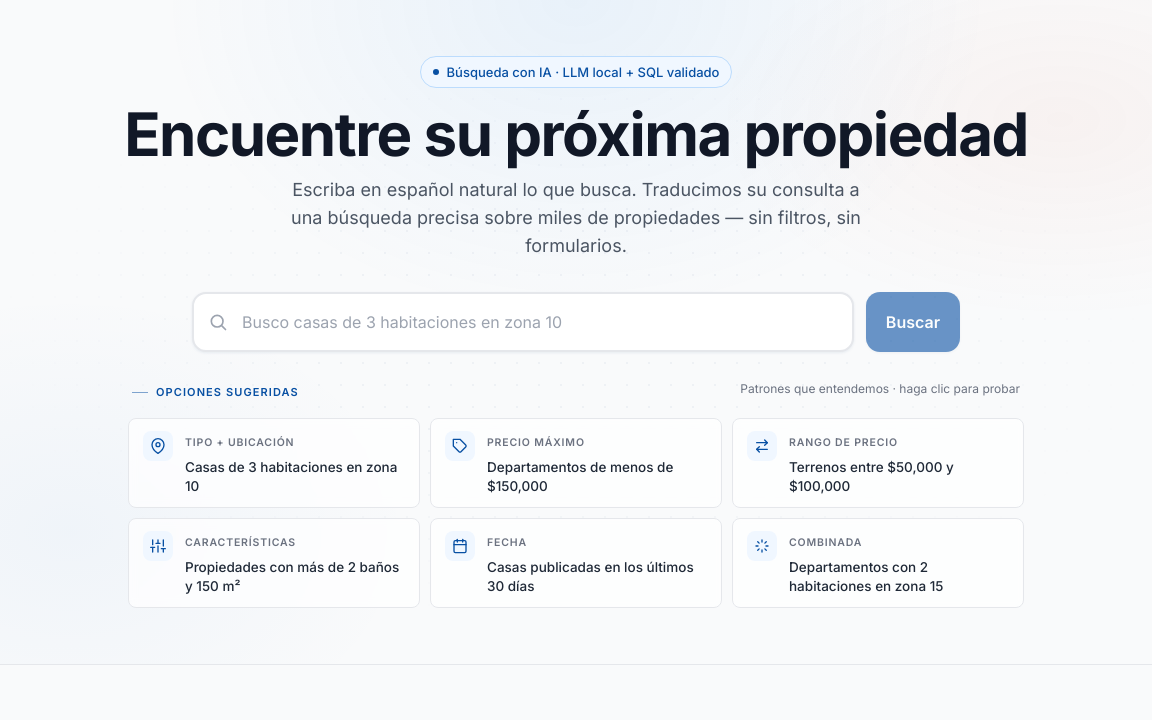
it: SearchView › renders EmptyState after search with zero results
Type "algo raro" into the search field with placeholder "Busco casas de 3 habitaciones en zona 10" at coordinates (523, 322), box [192, 292, 854, 352]
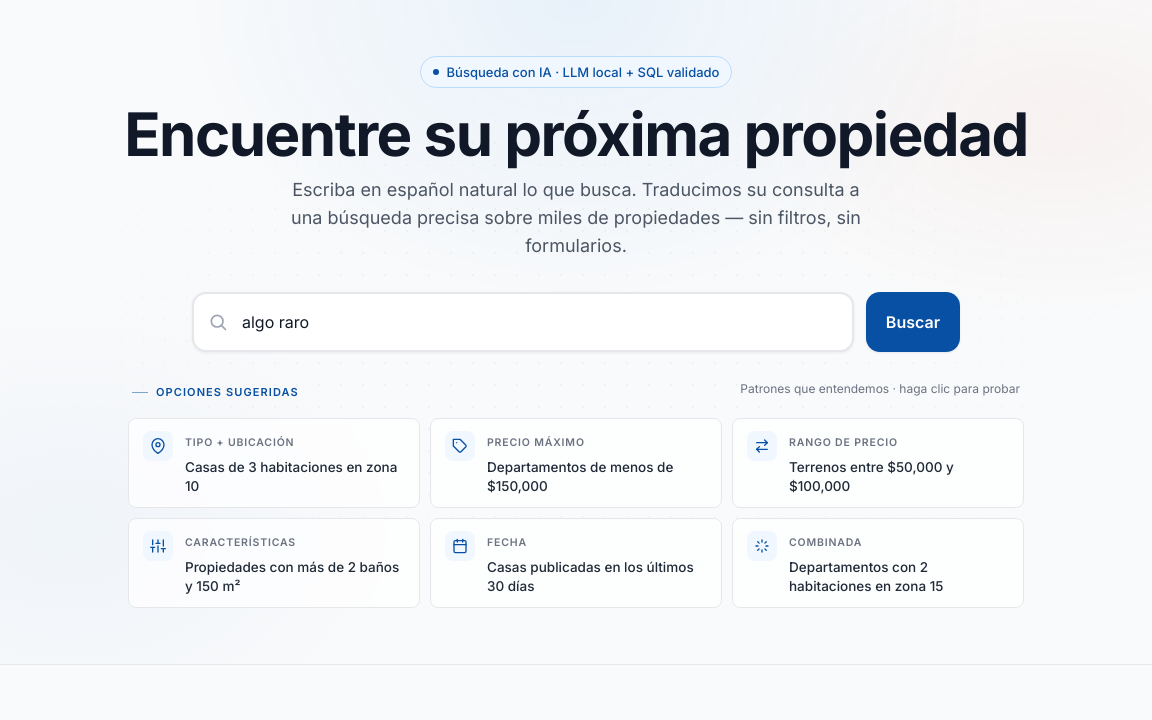
Submit the form, box [192, 292, 960, 352]
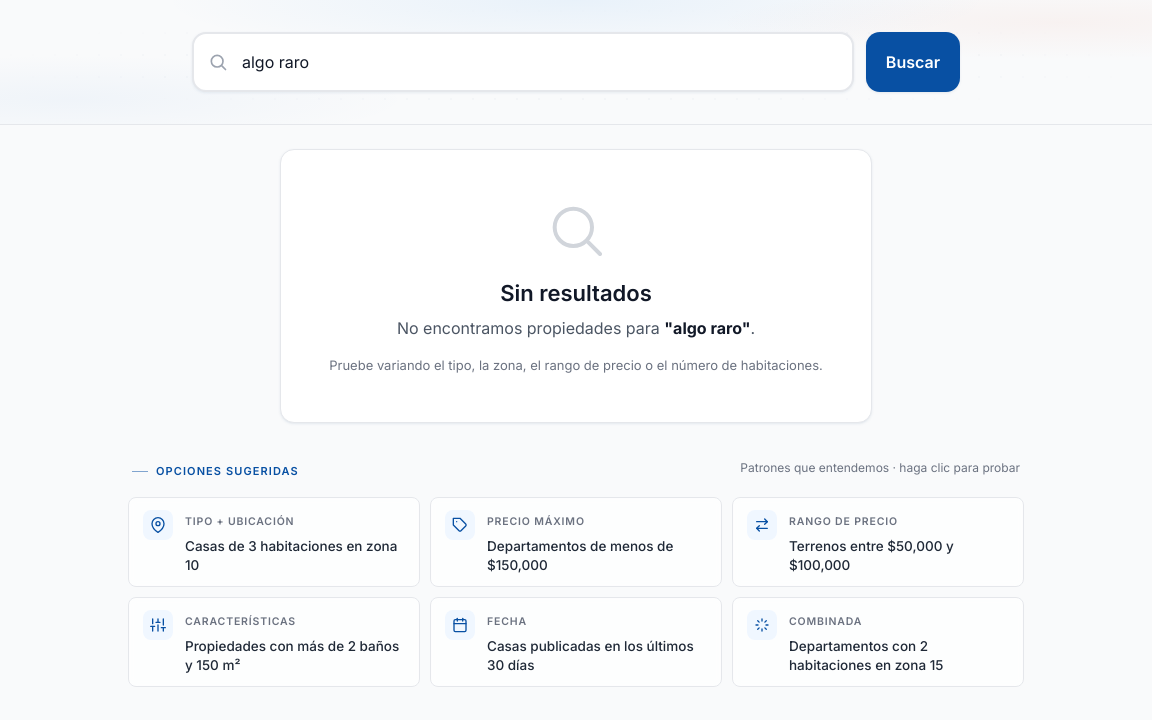
Now the text "Sin resultados" is shown, box [500, 280, 652, 306]
